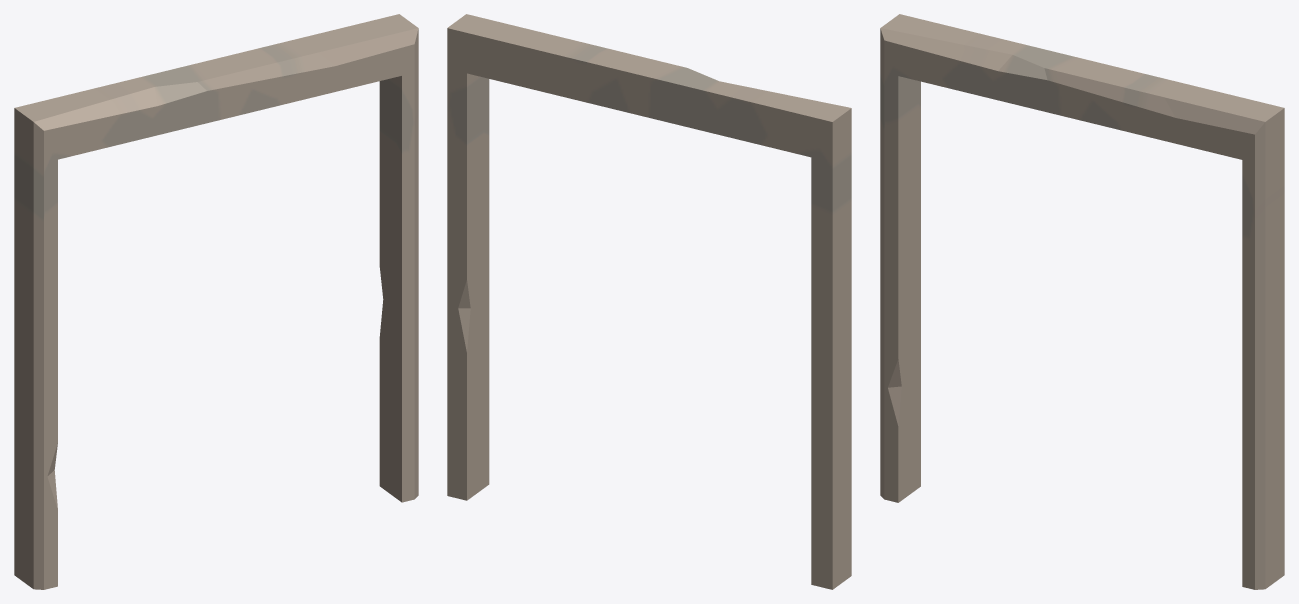
File: SM_Bld_Shop_Door_03.glb
3 renders of one model, left to right at view 1: azimuth 30°, elevation 25°; view 2: azimuth 150°, elevation 25°; view 3: azimuth 330°, elevation 25°, orthographic.
Parts seen in each view (by area): view 1: SM_Bld_Shop_Door_03; view 2: SM_Bld_Shop_Door_03; view 3: SM_Bld_Shop_Door_03.
Part boxes in pixels (left/top/right/bottom): SM_Bld_Shop_Door_03: left=14, top=14, right=418, bottom=589; SM_Bld_Shop_Door_03: left=447, top=14, right=851, bottom=589; SM_Bld_Shop_Door_03: left=880, top=14, right=1284, bottom=589.
Bounding box in the file's own units: 2.3 × 2.66 × 0.2314.
1 material, 1 textured.
